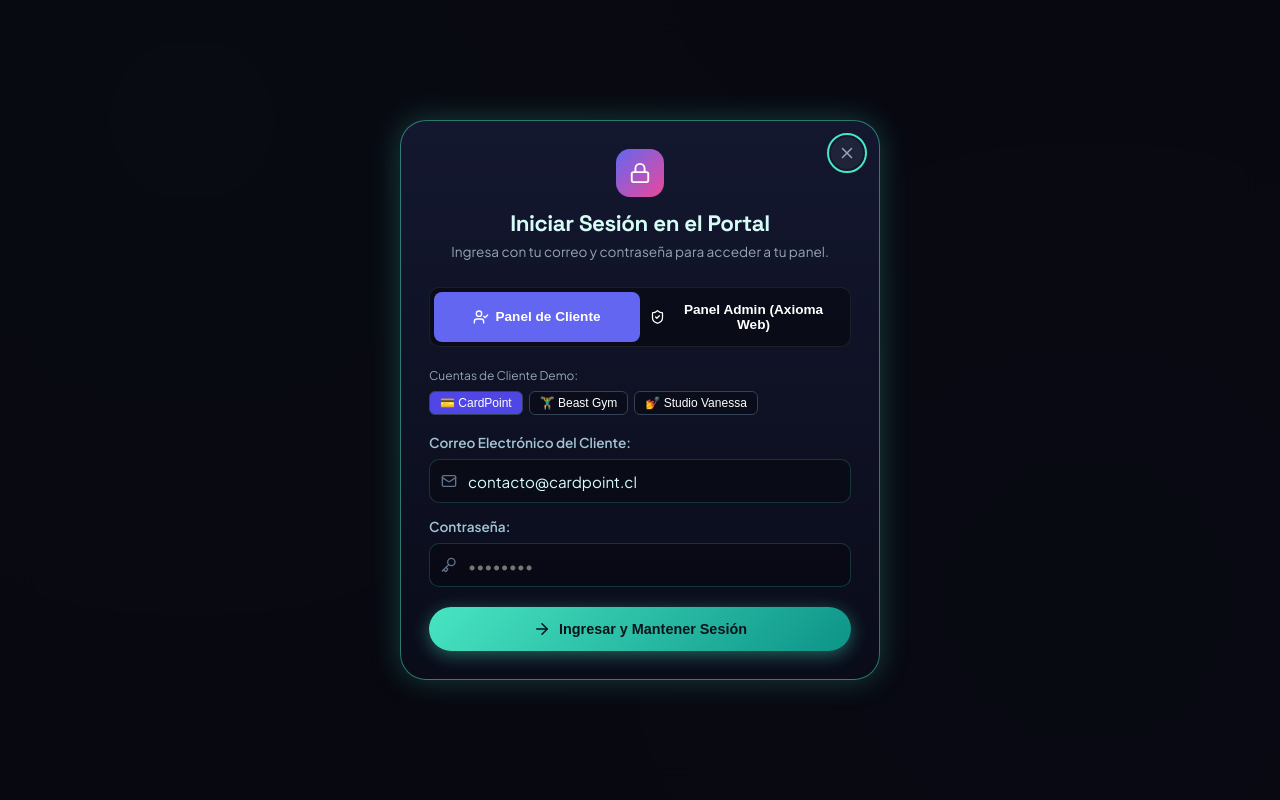
Scenario: LoginModal › shows error on empty client login submit
The image size is (1280, 800).
Clear the field with placeholder "ejemplo@cliente.cl". click: (640, 481)
box: top-left (429, 459), bottom-right (851, 503)
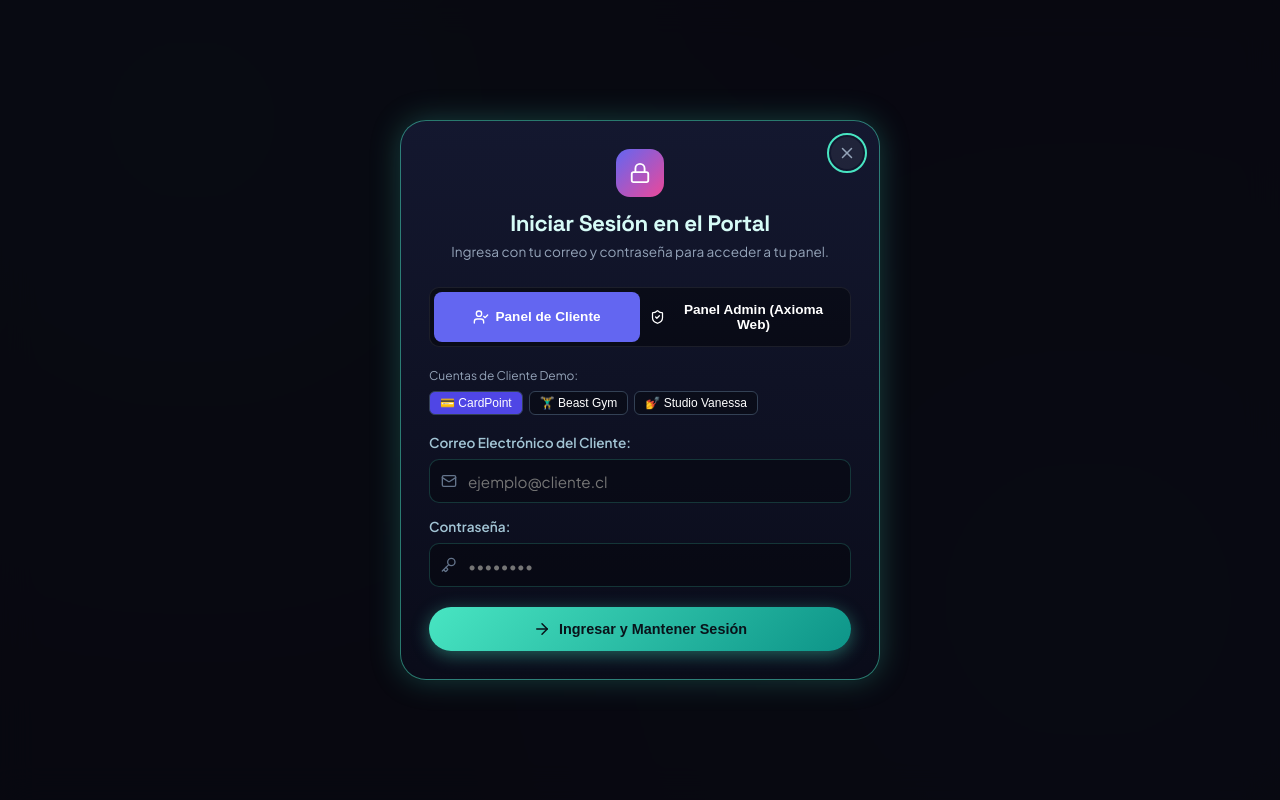
Submit the form named "ingresar y mantener sesión", box top-left (429, 367), bottom-right (851, 651)
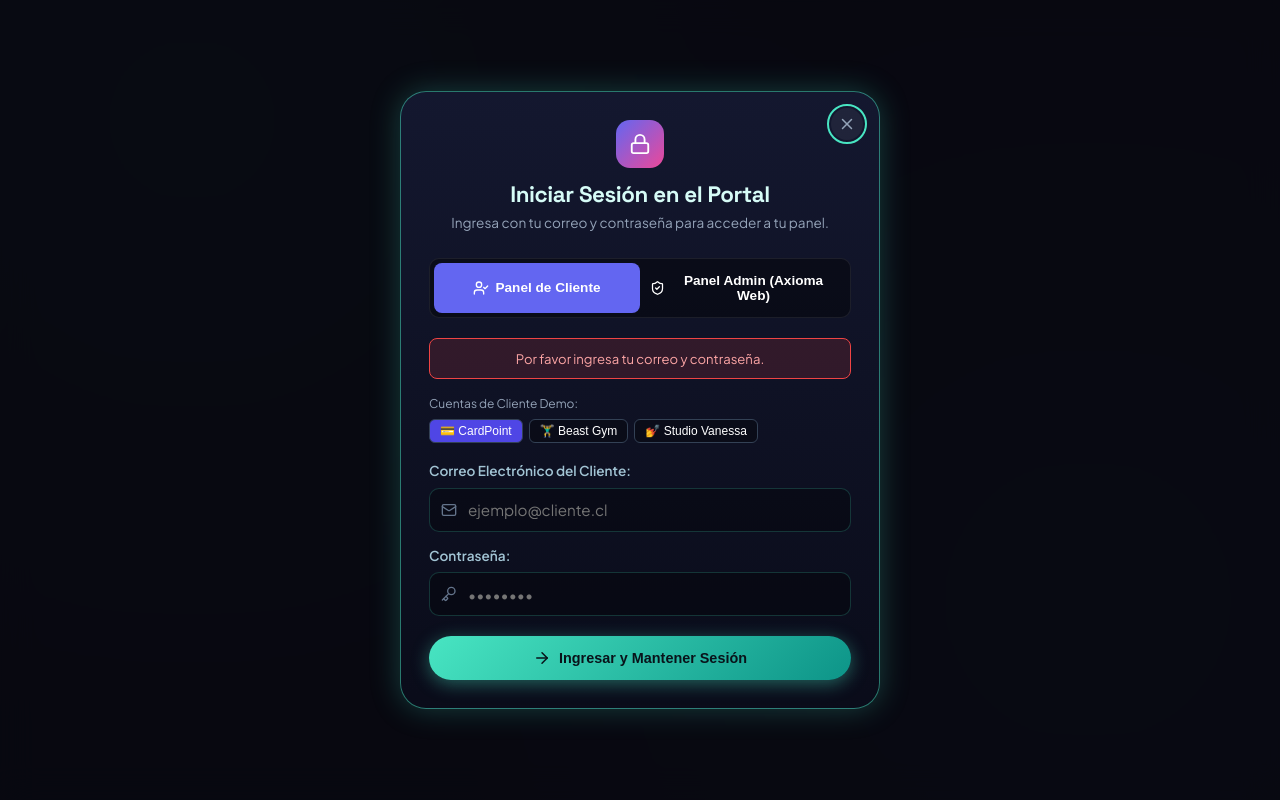
Expected: the text "Por favor ingresa tu correo y contraseña." is shown, top-left (429, 338), bottom-right (851, 380)
